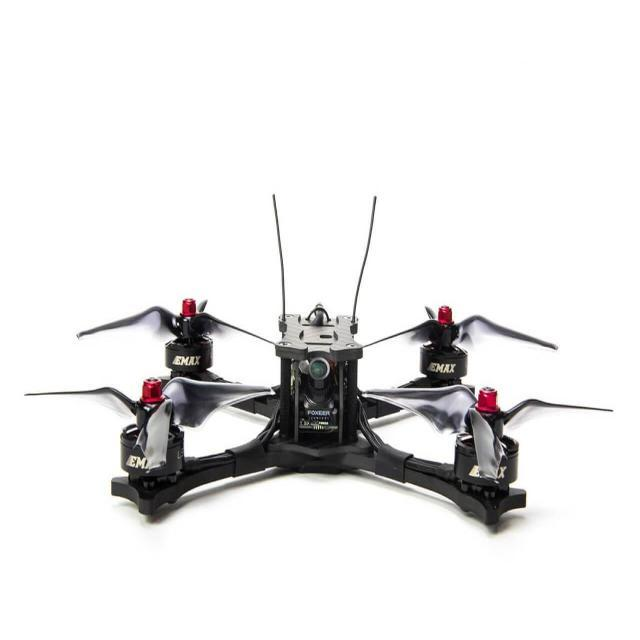drones: (16, 174, 632, 570)
